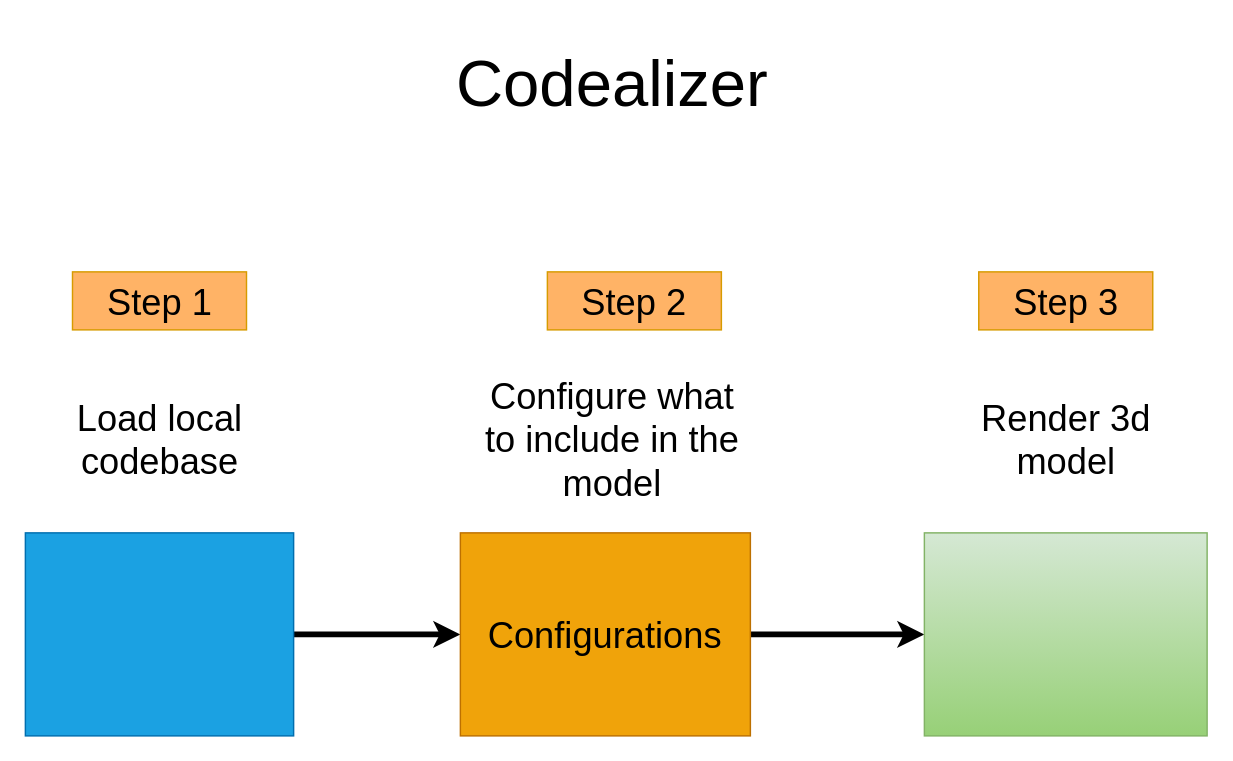
The diagram is 1233 pixels wide and 761 high, and some of its shapes have lost their labels. The shapes that lost their labels are listed below. From the top down, each one's box as (x1, y1, x2, y2) in pixels, then its label:
(24, 531, 294, 736): Codebase
(923, 531, 1207, 736): Model
